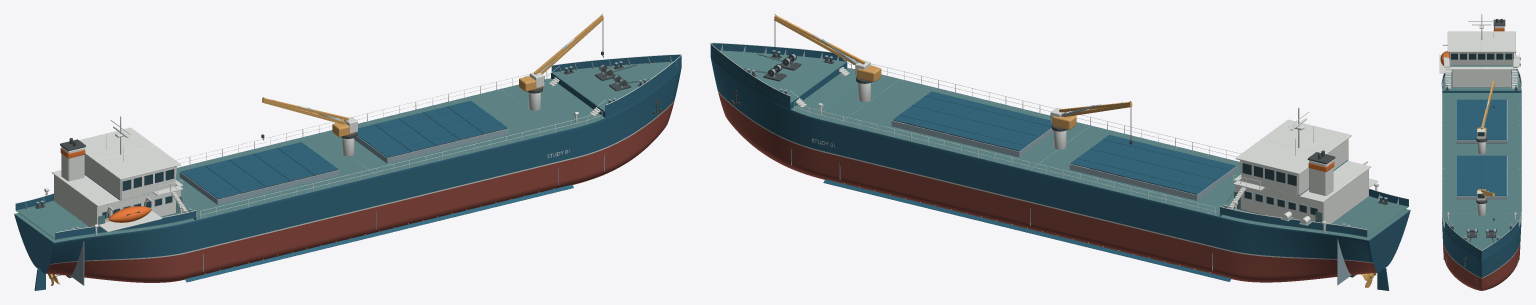
Rendered from cargo_ship.glb.
The picture shows the model from 3 angles, left to right: view 1: azimuth 30°, elevation 25°; view 2: azimuth 150°, elevation 25°; view 3: azimuth 270°, elevation 25°; orthographic projection. The views are drawn at different scales.
Visible parts, largest first — view 1: Hull_near_structure, Decks_far_cover, Decks_near_cover, Equipment_far_structure, Decks_far_structure, Accommodation_near_cover, Accommodation_far_structure, Hull_far_structure, Accommodation_far_cover, Forecastle_far_structure, Decks_near_structure, Hull_near_cover (+5 smaller); view 2: Hull_far_structure, Decks_far_structure, Decks_far_cover, Accommodation_far_structure, Equipment_far_structure, Decks_near_cover, Accommodation_near_cover, Accommodation_far_cover, Forecastle_near_cover, Forecastle_far_structure, Hull_near_cover, AftDeck_near_cover (+3 smaller); view 3: Decks_far_cover, Decks_far_structure, Decks_near_cover, Accommodation_far_cover, Hull_far_structure, Accommodation_far_structure, Equipment_far_structure, Hull_near_structure, Accommodation_near_cover, Forecastle_far_structure, Forecastle_near_cover, AftDeck_far_structure (+5 smaller).
Part boxes in pixels (x1,y1,x2,y2): Hull_near_structure: (46,62,681,282); Decks_far_cover: (181,100,507,198); Decks_near_cover: (34,98,604,242); Equipment_far_structure: (15,14,680,235); Decks_far_structure: (14,78,577,228); Accommodation_near_cover: (75,146,183,224); Accommodation_far_structure: (51,116,189,214); Hull_far_structure: (14,54,681,273); Accommodation_far_cover: (54,154,180,226); Forecastle_far_structure: (548,61,672,115); Decks_near_structure: (218,128,508,204); Hull_near_cover: (55,55,681,239); Hull_far_structure: (710,44,1410,282); Decks_far_structure: (791,89,1389,240); Decks_far_cover: (893,91,1235,194); Accommodation_far_structure: (1226,107,1346,222); Equipment_far_structure: (710,14,1388,233); Decks_near_cover: (819,68,1410,225); Accommodation_near_cover: (1262,119,1370,210); Accommodation_far_cover: (1235,139,1368,223); Forecastle_near_cover: (719,50,846,82); Forecastle_far_structure: (714,54,850,107); Hull_near_cover: (711,43,1408,206); AftDeck_near_cover: (1346,196,1408,221); Decks_far_cover: (1456,99,1506,195); Decks_far_structure: (1456,93,1521,226); Decks_near_cover: (1442,93,1481,227); Accommodation_far_cover: (1449,52,1513,87); Hull_far_structure: (1481,67,1521,290); Accommodation_far_structure: (1444,14,1519,88); Equipment_far_structure: (1439,44,1521,267); Hull_near_structure: (1442,220,1481,290); Accommodation_near_cover: (1447,31,1481,87); Forecastle_far_structure: (1450,221,1514,249); Forecastle_near_cover: (1449,225,1481,250); AftDeck_far_structure: (1481,69,1521,90).
Bounding box in the file's own units: 80.27 × 18.48 × 13.05.
